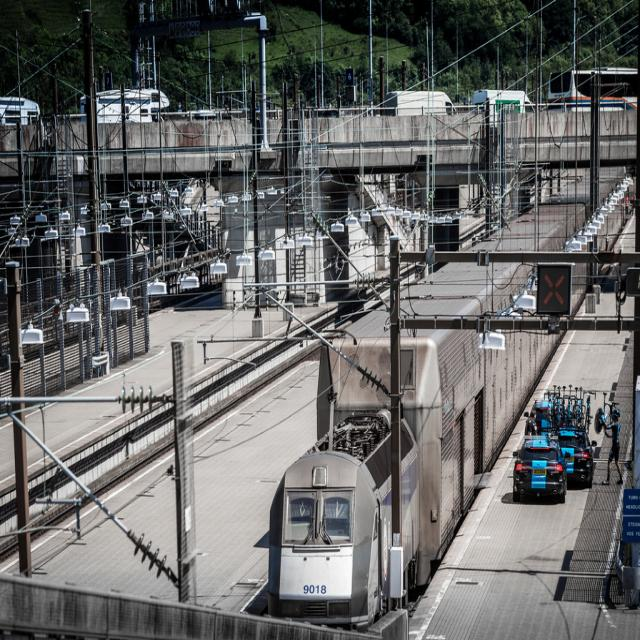car: (512, 433, 570, 503)
